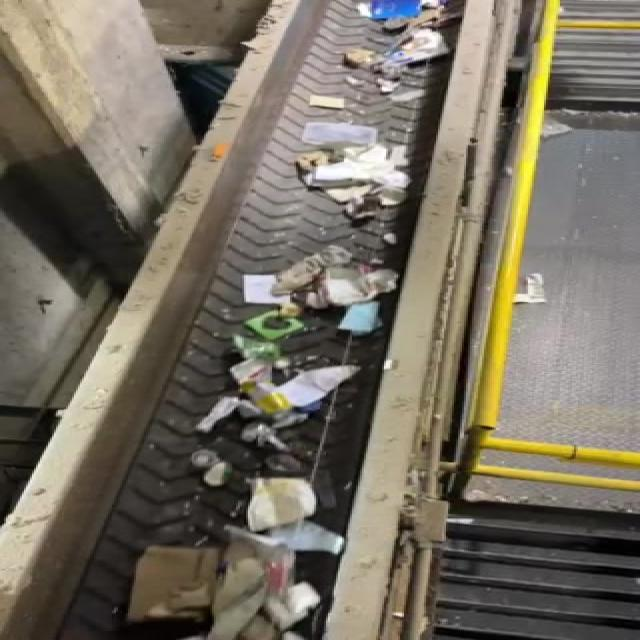metal: (228, 376, 306, 424)
paper: (119, 542, 224, 640)
